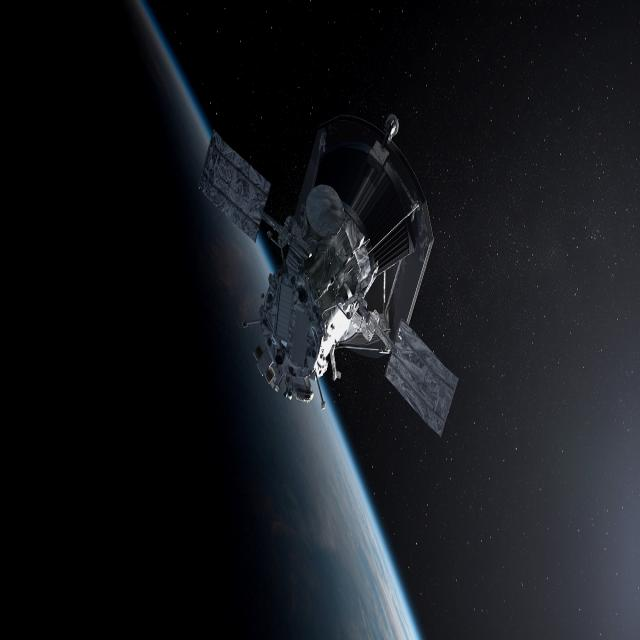medium_debris: (195, 96, 468, 452)
